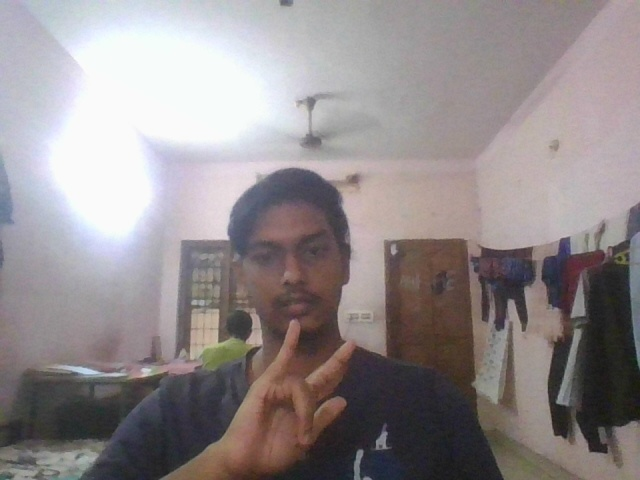iloveyou: (220, 315, 360, 480)
